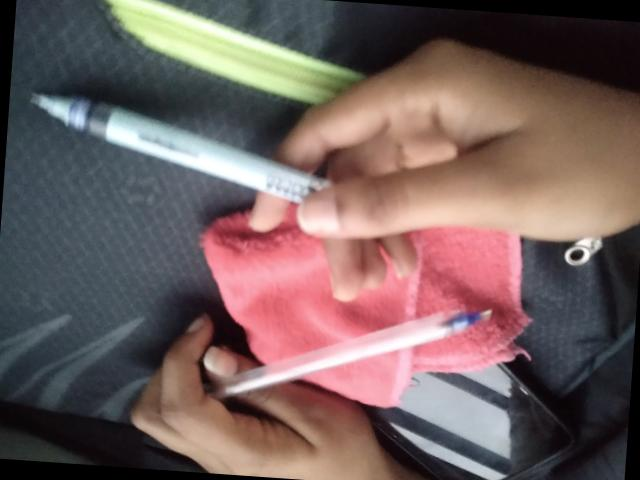PEN: (301, 255, 638, 401), (119, 45, 448, 193)
